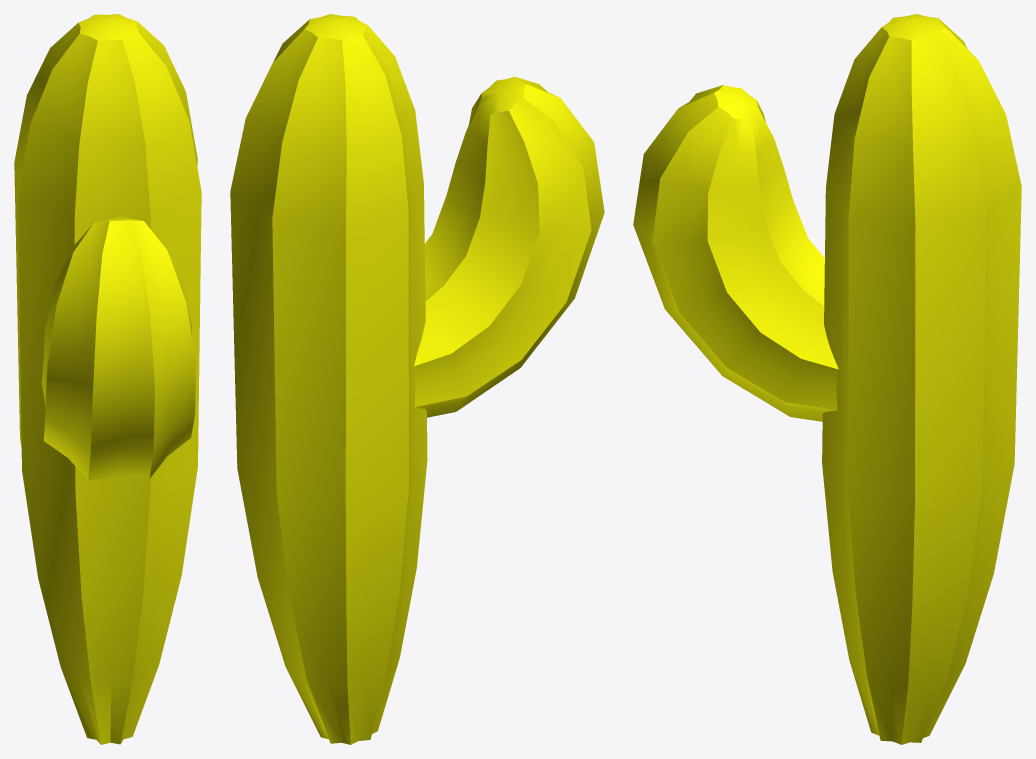
3 views of the same model, side by side, from view 1: azimuth 30°, elevation 25°; view 2: azimuth 150°, elevation 25°; view 3: azimuth 270°, elevation 25° (orthographic).
Visible parts, largest first — view 1: military_cactus2; view 2: military_cactus2; view 3: military_cactus2.
Boxes of the visible parts, x1,y1,x2,y2 form: military_cactus2: (14,14,201,744); military_cactus2: (230,14,604,744); military_cactus2: (633,14,1021,744).
Size of the model in its own units: 0.00525 by 0.0144 by 0.00708.
1 material, 1 textured.
